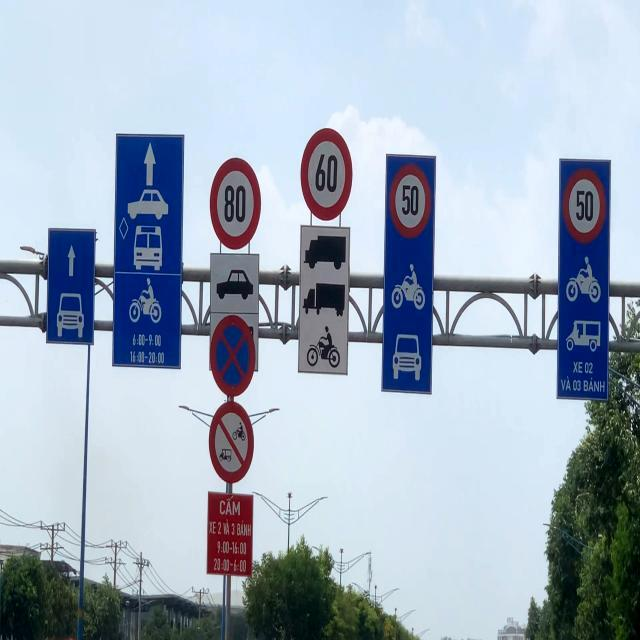Cam dung xe va do xe: (210, 314, 256, 396)
Toc do toi da cho phep: (300, 127, 353, 221), (210, 157, 262, 250), (562, 168, 606, 244), (389, 164, 432, 239)
